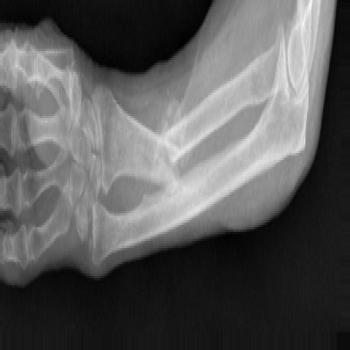Fracture: (158, 115, 177, 183)
